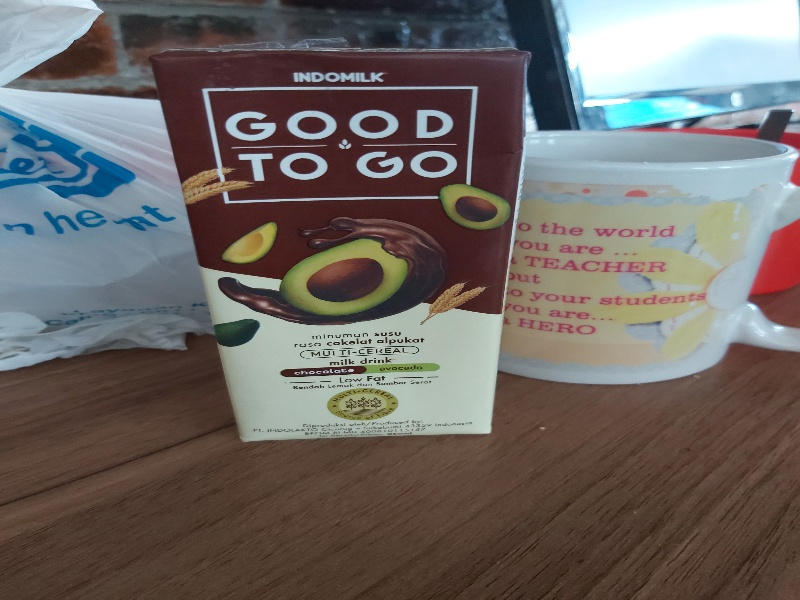cokelat: (149, 46, 528, 434)
